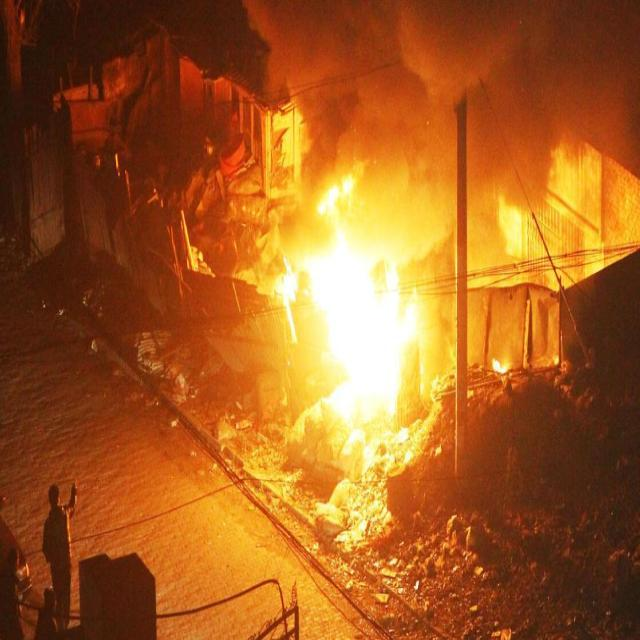Fire: (254, 124, 470, 510), (270, 202, 464, 440)
